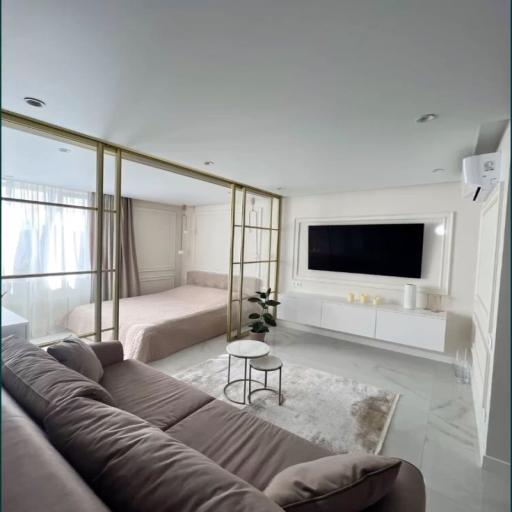elevator: (0, 113, 118, 351), (227, 184, 283, 346)
person: (62, 266, 272, 361)
sidewalk: (0, 325, 436, 512)
